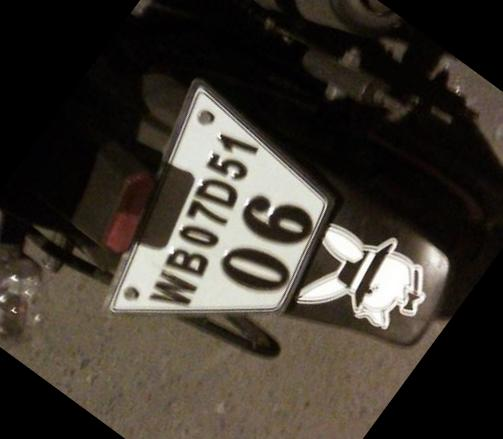plate: (87, 78, 369, 384)
